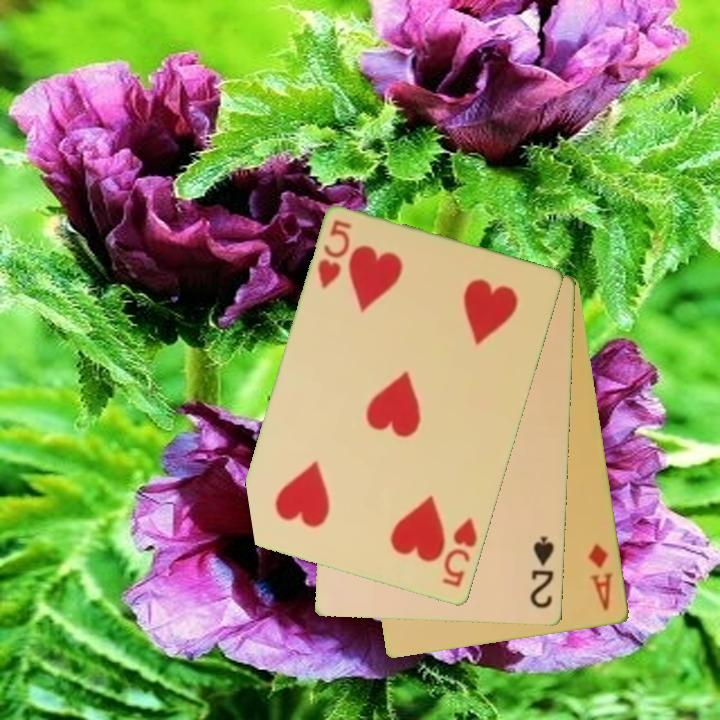2s: (527, 533, 557, 612)
5h: (439, 515, 481, 590), (314, 216, 355, 292)
Ad: (585, 540, 617, 614)
